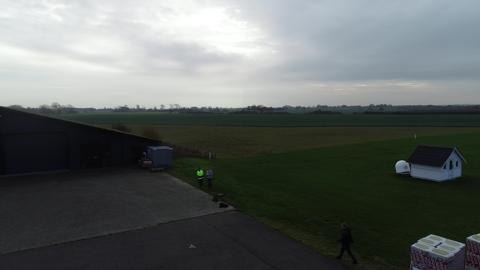RockwoolPallet: (466, 231, 479, 268)
